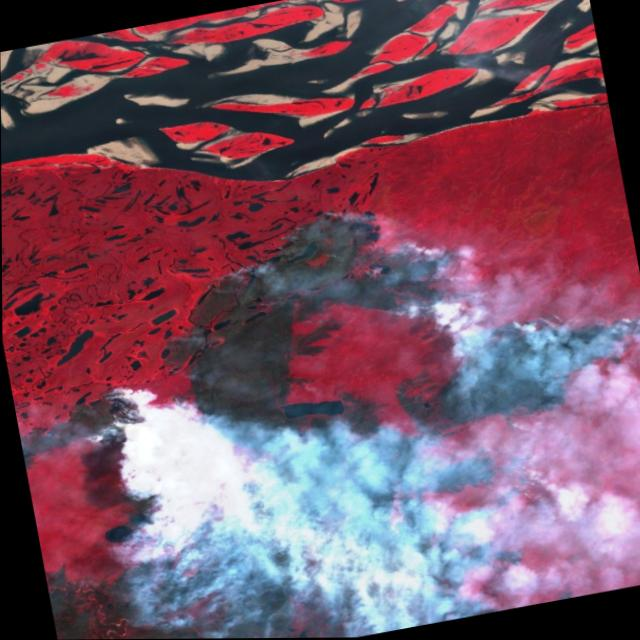fire: (43, 373, 205, 558), (436, 290, 640, 428), (349, 213, 489, 329), (448, 426, 550, 525)
